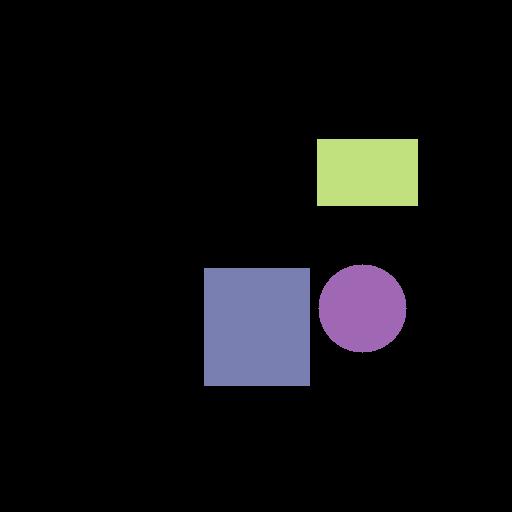circle: (318, 264, 406, 352)
rectangle: (204, 268, 309, 385), (317, 139, 417, 205)
